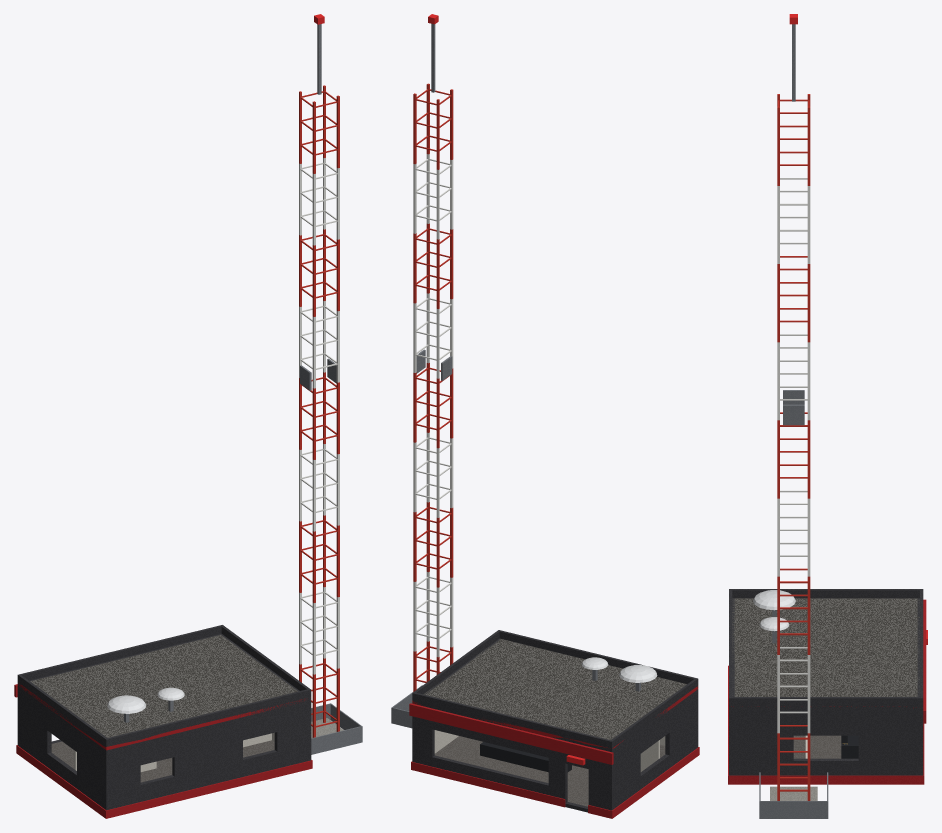
Rendered from radio_station_roko.glb.
The picture shows the model from 3 angles, left to right: view 1: azimuth 30°, elevation 25°; view 2: azimuth 150°, elevation 25°; view 3: azimuth 270°, elevation 25°; orthographic projection. The views are drawn at different scales.
Parts seen in each view (by area): view 1: radio_station_roko; view 2: radio_station_roko; view 3: radio_station_roko.
Boxes of the visible parts, x1,y1,x2,y2 form: radio_station_roko: (14, 14, 362, 818); radio_station_roko: (391, 14, 699, 818); radio_station_roko: (728, 14, 927, 818).
Bounding box in the file's own units: 15.9 × 40.35 × 9.27.
13 materials, 13 textured.
